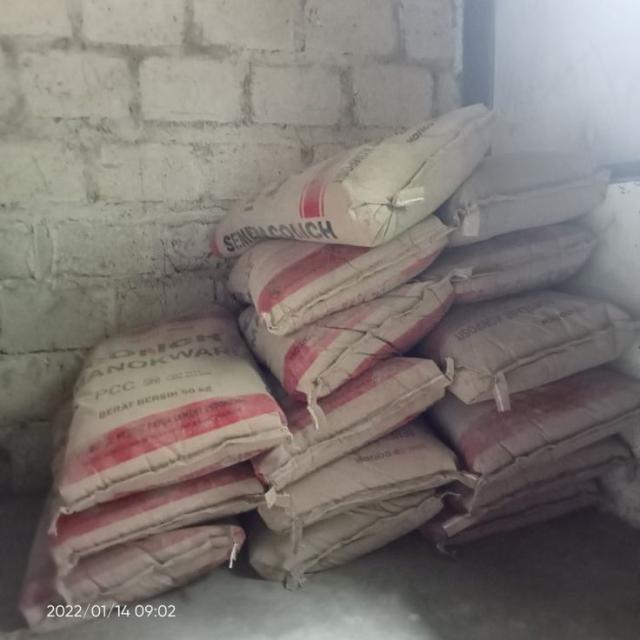KantongSemen: (18, 104, 638, 630)
